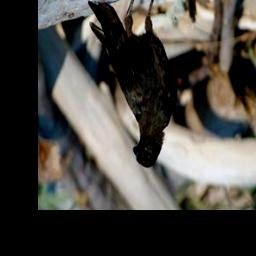Crow: (87, 0, 179, 170)
